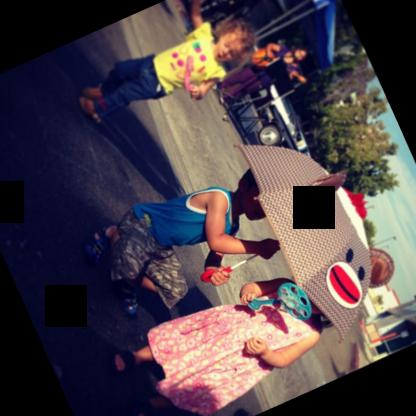handbag: (250, 48, 265, 65)
